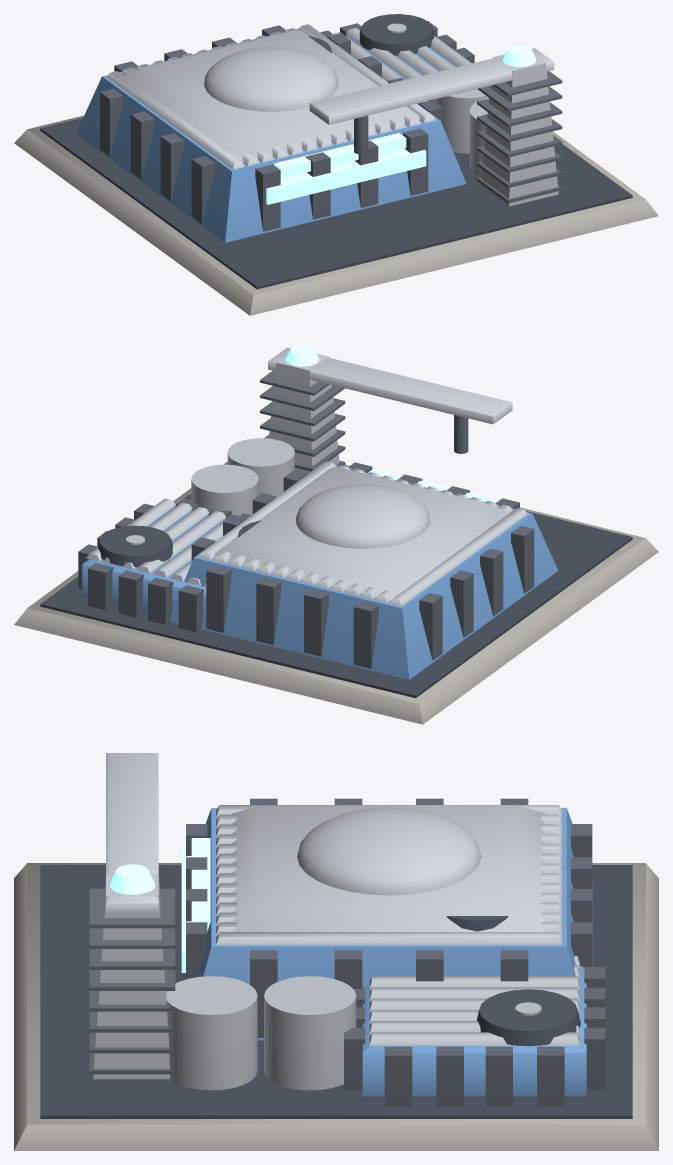
File: gacnst.glb
3 renders of one model, top to bottom at view 1: azimuth 30°, elevation 25°; view 2: azimuth 150°, elevation 25°; view 3: azimuth 270°, elevation 25°, orthographic. The views are drawn at different scales.
Parts seen in each view (by area): view 1: Hull; view 2: Hull; view 3: Hull.
Boxes of the visible parts, box(x1,y1,x2,y2) form: Hull: box(14, 14, 658, 315); Hull: box(14, 344, 658, 724); Hull: box(14, 753, 658, 1150).
Bounding box in the file's own units: 7.06 × 2.6 × 7.06.
